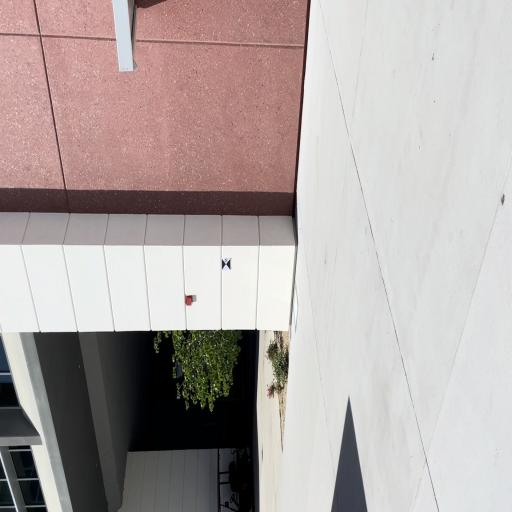target9: (222, 258, 231, 270)
